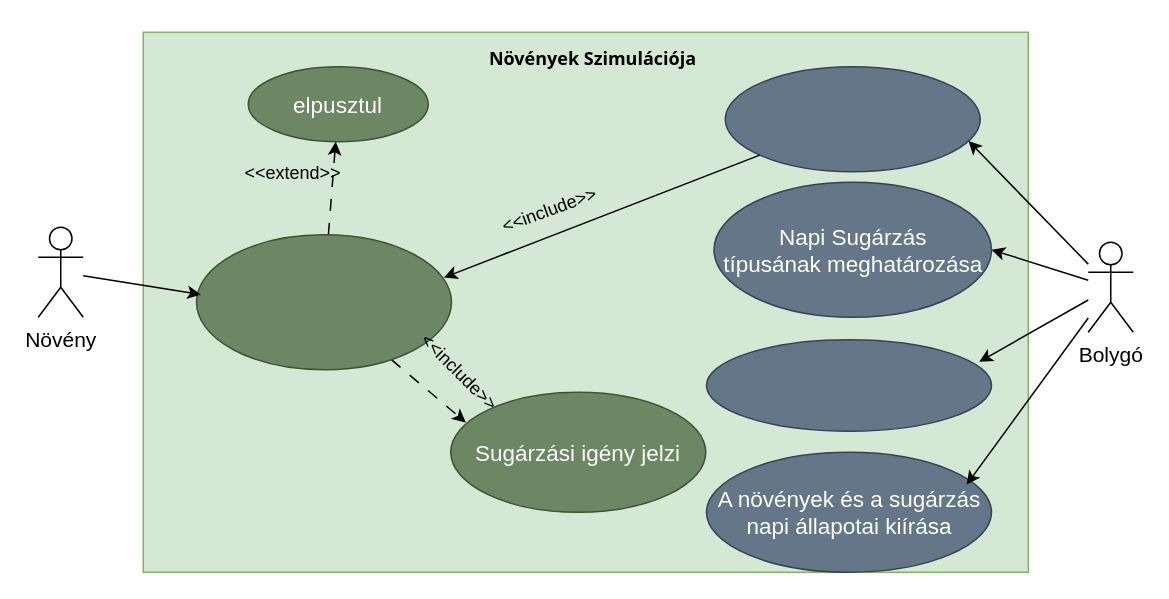
Some shapes in this 1169 by 599 pixel diagram are drawn without their labels. Each missing label, with the box of its shape:
kölcsönhatás Sugárzással: (195, 233, 452, 370)
legerősebb növény meghatározása: (705, 338, 992, 431)
Szimuláció indítása (hatás): (724, 65, 980, 172)
